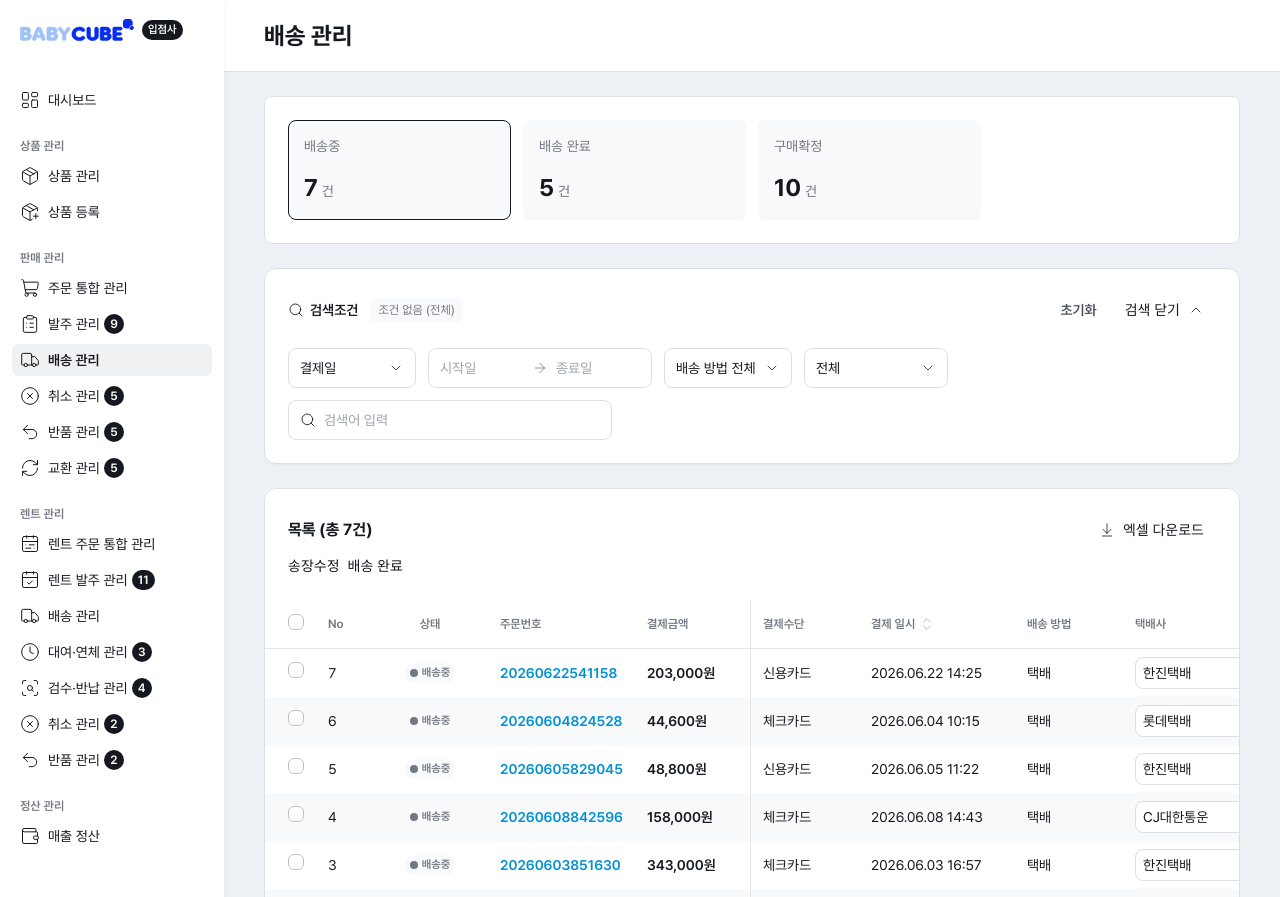
Test case: ShippingPage — 배송 관리 › [배송 완료] → 「배송 완료 처리」 고지 창 → 원본 알림(자동 구매확정 기산)
Click the checkbox named "20260622541158 베이비큐브 프리미엄 모유저장팩 세트 선택": click(296, 670) [288,662,304,678]
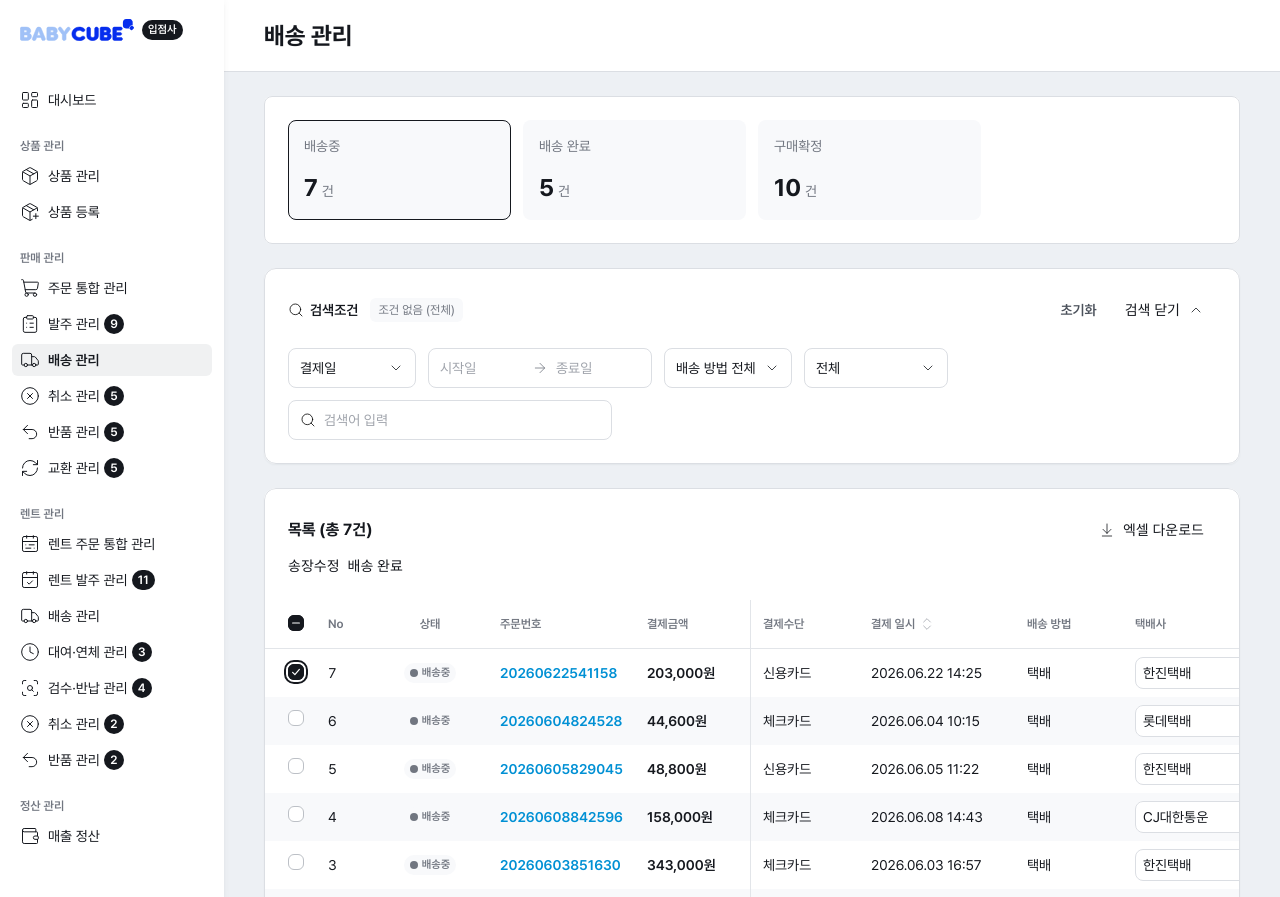
Click the button "배송 완료": click(375, 566) [348,556,403,576]
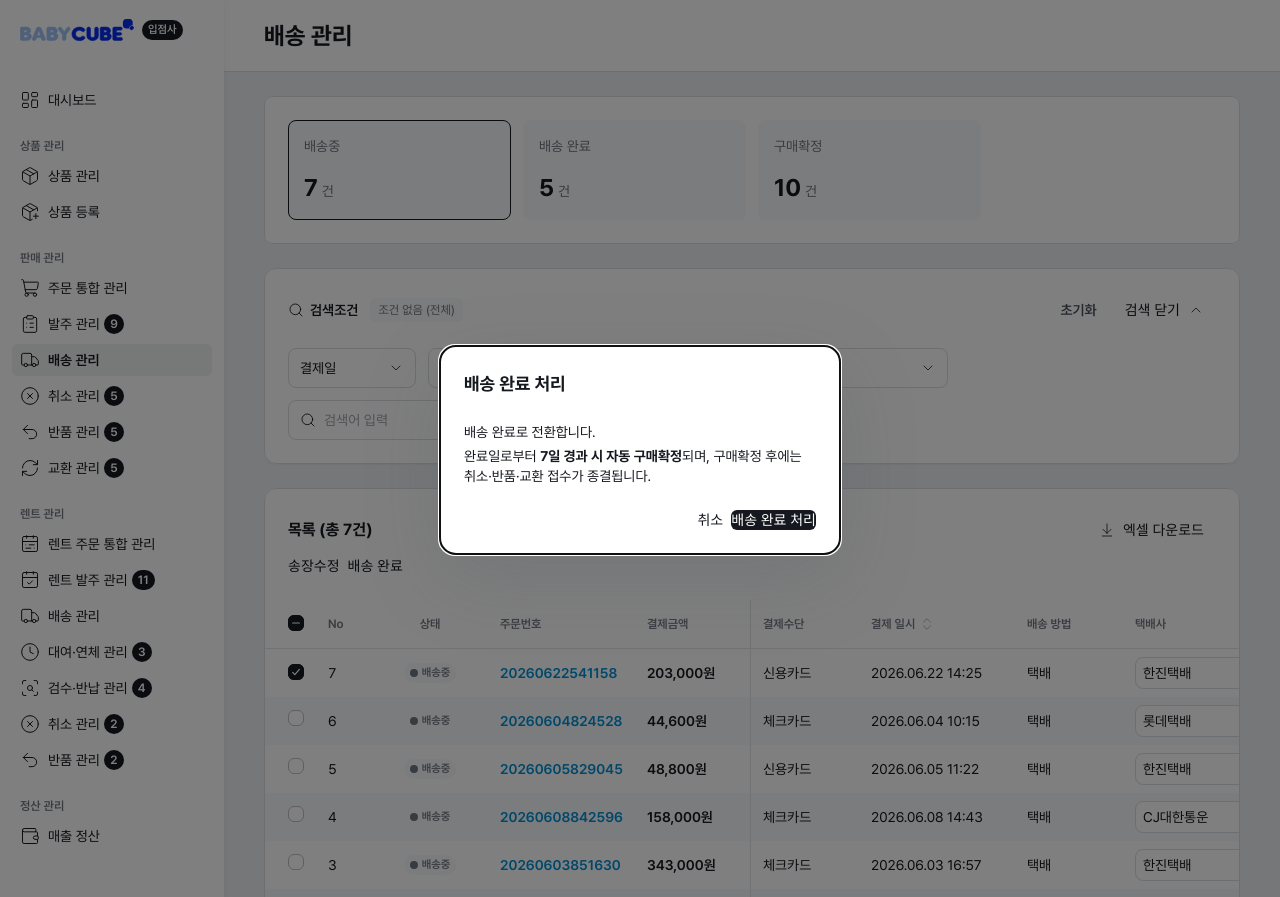
Expected: the text "7일 경과 시 자동 구매확정" is shown, [540,448,682,464]
Click the button "배송 완료 처리": click(774, 520) [731,510,816,530]
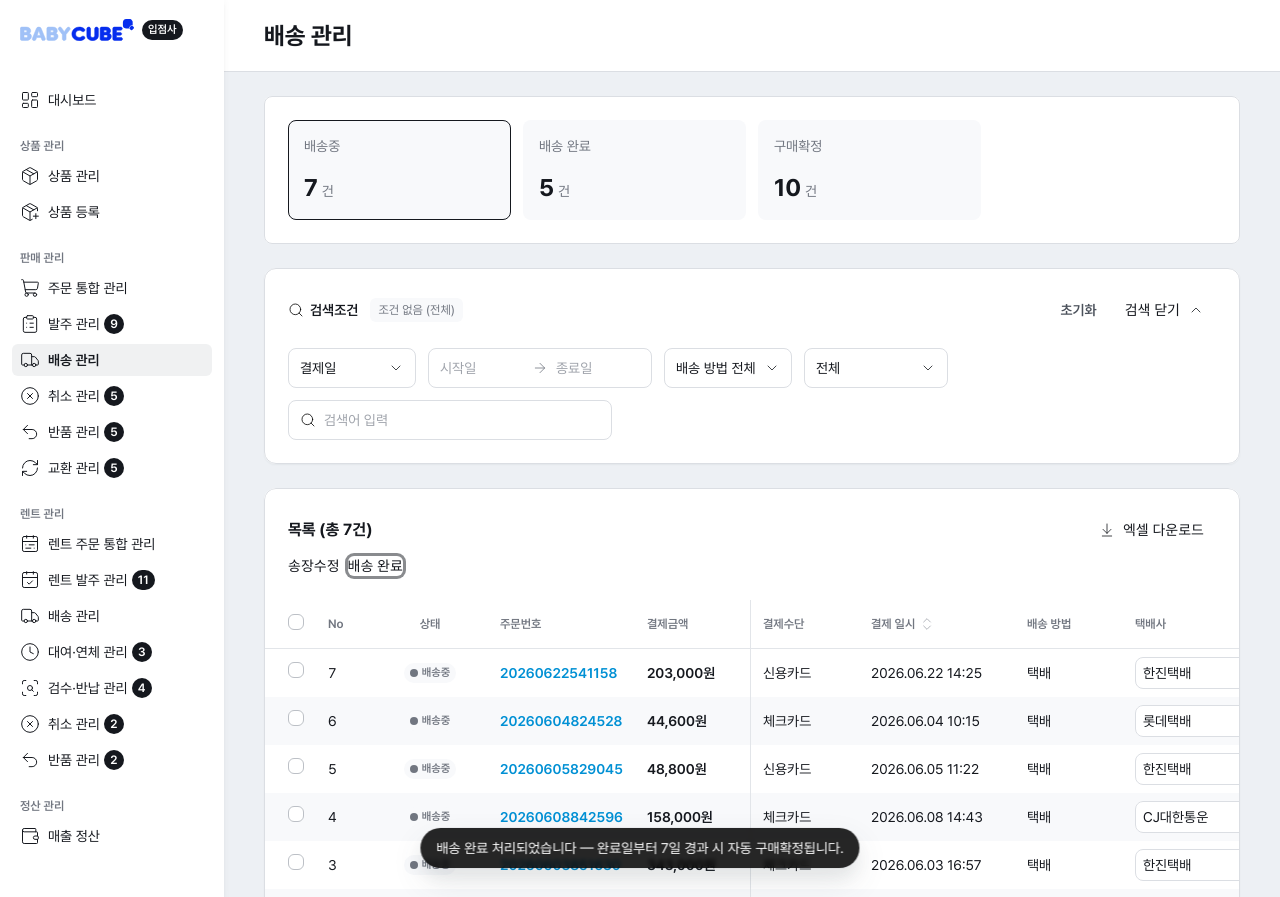
Expected: the text "배송 완료 처리되었습니다 — 완료일부터 7일 경과 시 자동 구매확정됩니다." is shown, [420,828,860,868]
